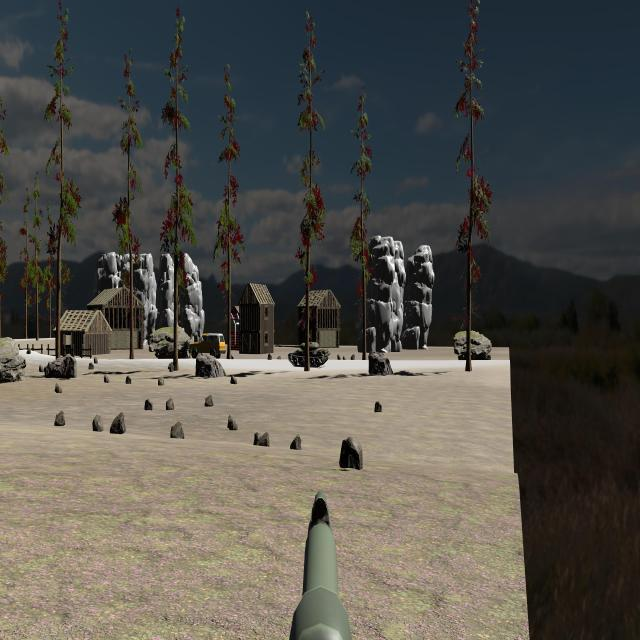Tank: (276, 342, 330, 367)
car: (190, 333, 226, 359)
